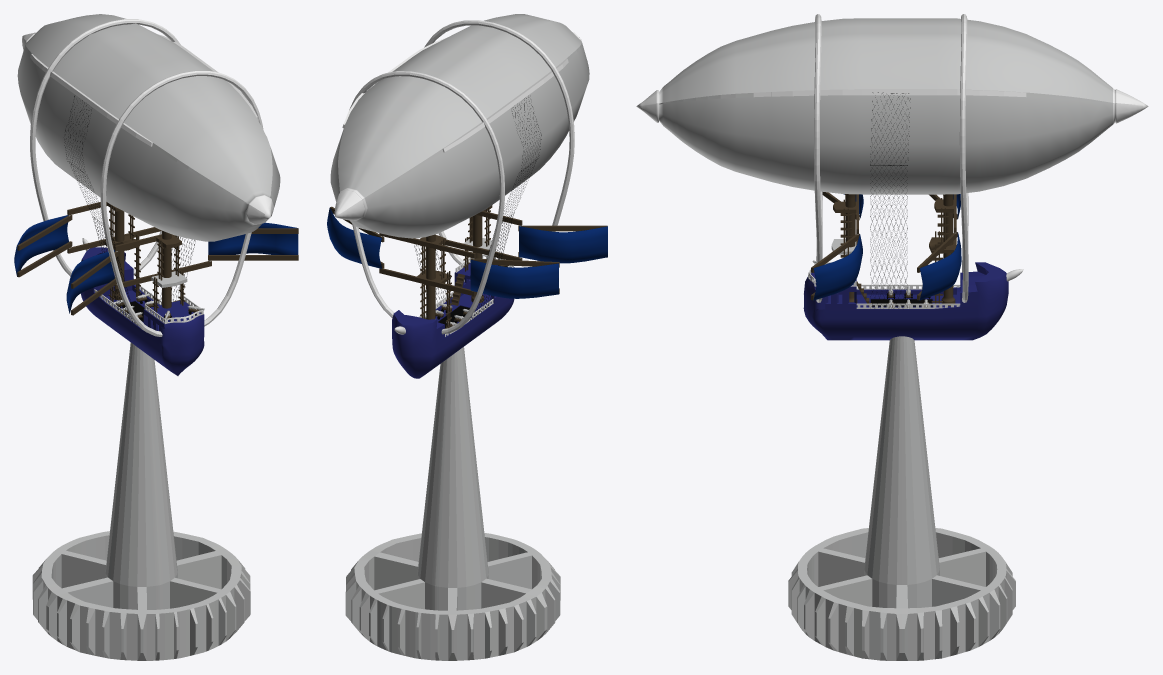
Rendered from SteelAirshipPiece.fbx.
3 renders of one model, left to right at view 1: azimuth 30°, elevation 25°; view 2: azimuth 150°, elevation 25°; view 3: azimuth 270°, elevation 25°, orthographic. The views are drawn at different scales.
Visible parts, largest first — view 1: SteelAirshipPiece; view 2: SteelAirshipPiece; view 3: SteelAirshipPiece.
Boxes of the visible parts, bbox=[...] form: SteelAirshipPiece: bbox=[14, 14, 298, 660]; SteelAirshipPiece: bbox=[327, 14, 607, 660]; SteelAirshipPiece: bbox=[636, 14, 1148, 660].
Size of the model in its own units: 109 by 254 by 199.
